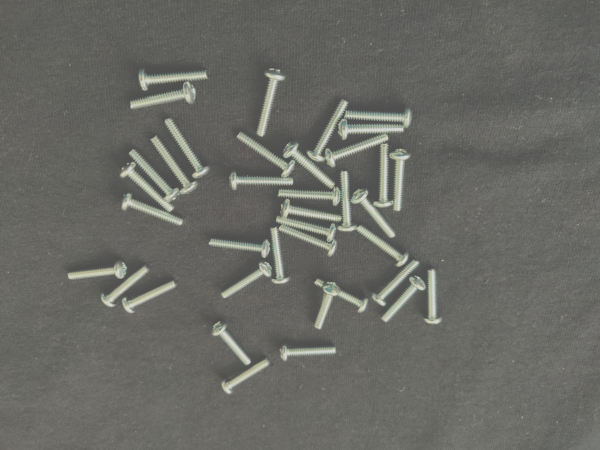longscrew: (163, 116, 213, 182), (151, 133, 200, 198), (129, 147, 183, 204), (119, 161, 176, 214), (237, 128, 296, 179), (308, 96, 351, 164), (281, 142, 338, 191), (323, 132, 392, 169), (99, 262, 152, 309), (354, 224, 411, 267), (372, 258, 421, 308), (119, 193, 187, 229), (381, 273, 427, 325), (254, 65, 286, 137), (209, 319, 255, 369), (353, 187, 397, 239), (121, 278, 181, 316), (127, 81, 199, 112), (220, 258, 274, 299), (312, 277, 369, 314), (220, 357, 273, 395), (279, 224, 339, 257), (274, 215, 339, 245), (137, 66, 210, 92), (278, 199, 346, 225), (342, 105, 415, 129), (336, 118, 406, 142), (65, 258, 127, 283), (268, 225, 293, 286), (228, 170, 297, 192), (372, 141, 394, 209), (280, 184, 342, 208), (390, 147, 412, 213), (205, 237, 273, 258), (313, 282, 340, 332), (337, 171, 358, 235), (277, 341, 340, 362), (422, 267, 442, 326)
